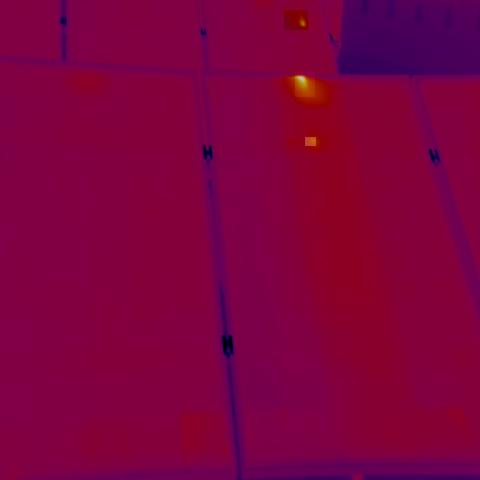fault: (296, 72, 316, 97), (284, 10, 308, 30), (305, 137, 316, 146)
